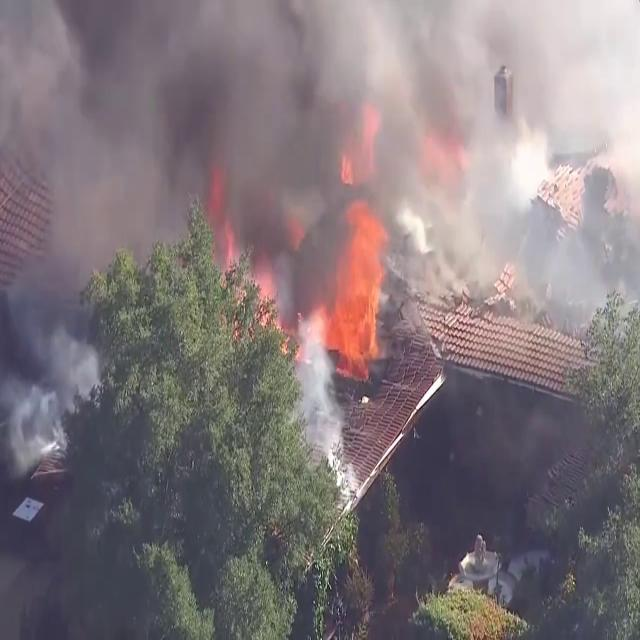Fire: (328, 174, 394, 370)
Smoke: (2, 0, 634, 358)
